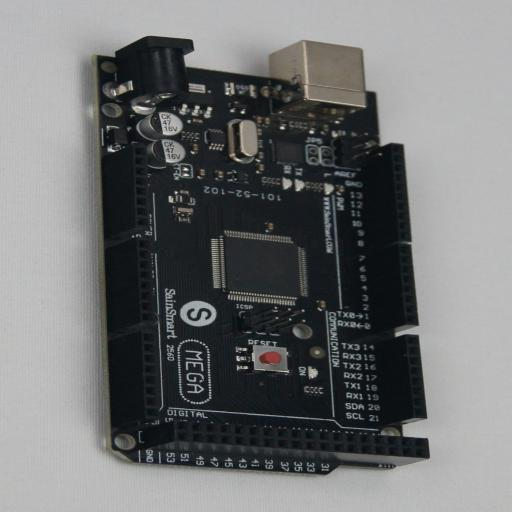Arduino Mega 2560 -Black-: (88, 36, 430, 475)
